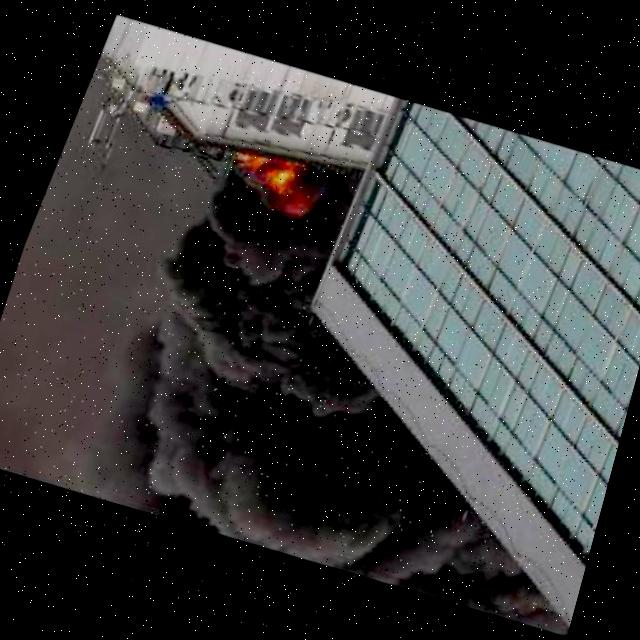fire: (210, 146, 311, 221)
